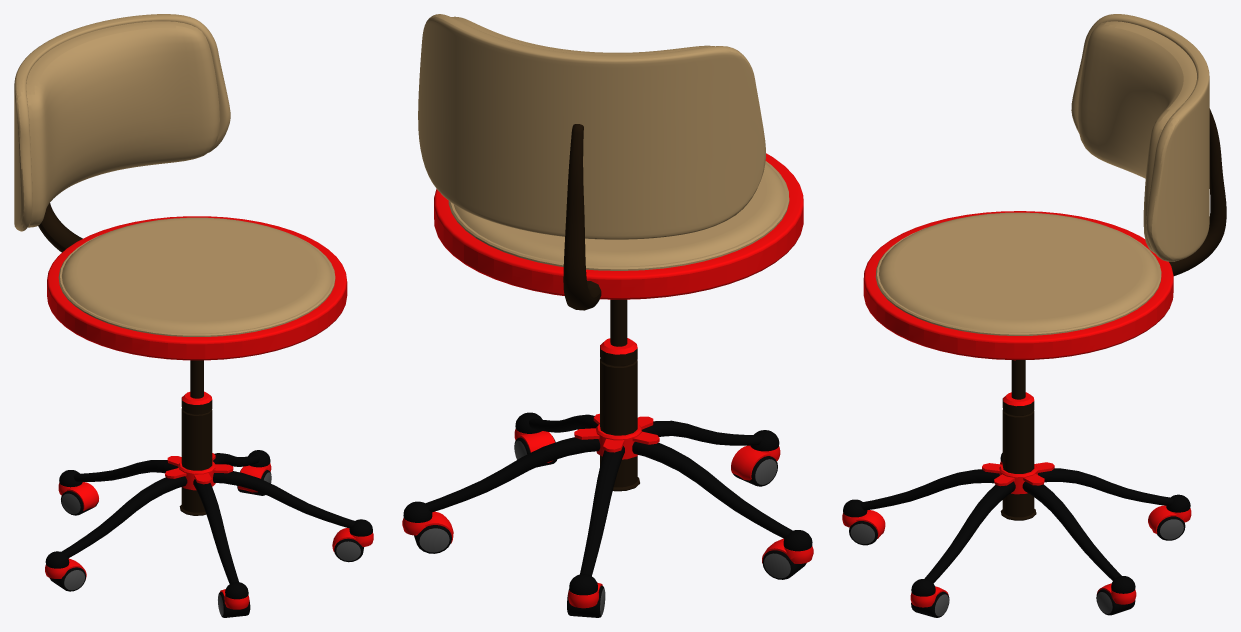
File: Cadeira2.FBX
3 renders of one model, left to right at view 1: azimuth 30°, elevation 25°; view 2: azimuth 150°, elevation 25°; view 3: azimuth 270°, elevation 25°, orthographic. The views are drawn at different scales.
Visible parts, largest first — view 1: Line01, Box02, Line03, Loft03, Loft05, Loft04, Loft02, Rectangle0, Loft01, ChamferCy3, ChamferCy1; view 2: Box02, Line01, Line03, Loft01, Loft03, Loft06, Loft02, Rectangle0, Loft04, Loft05, ChamferCy0, ChamferCy1 (+2 smaller); view 3: Line01, Box02, Line03, Loft01, Loft06, Loft05, Loft04, Loft02, Rectangle0, ChamferCyl, ChamferCy2, ChamferCy0.
Part boxes in pixels (box(x1,y1,x2,y2)): Line01: box(47, 216, 347, 360); Box02: box(14, 14, 230, 231); Line03: box(179, 360, 212, 515); Loft03: box(61, 476, 187, 558); Loft05: box(213, 471, 354, 528); Loft04: box(193, 479, 238, 583); Loft02: box(73, 460, 178, 481); Rectangle0: box(165, 453, 233, 490); Loft01: box(38, 203, 82, 252); ChamferCy3: box(334, 538, 363, 562); ChamferCy1: box(49, 567, 86, 591); Box02: box(418, 14, 765, 239); Line01: box(434, 153, 803, 299); Line03: box(600, 299, 639, 491); Loft01: box(563, 124, 601, 310); Loft03: box(632, 442, 792, 538); Loft06: box(425, 437, 600, 512); Loft02: box(580, 446, 624, 576); Rectangle0: box(574, 413, 659, 459); Loft04: box(641, 420, 762, 445); Loft05: box(529, 414, 598, 432); ChamferCy0: box(414, 525, 451, 553); ChamferCy1: box(762, 550, 806, 579); Line01: box(863, 211, 1173, 360); Box02: box(1071, 14, 1209, 261); Line03: box(1000, 360, 1036, 520); Loft01: box(1169, 108, 1226, 275); Loft06: box(1022, 481, 1121, 580); Loft05: box(924, 481, 1015, 583); Loft04: box(860, 469, 999, 510); Loft02: box(1038, 468, 1173, 505); Rectangle0: box(982, 462, 1054, 494); ChamferCyl: box(849, 521, 877, 545); ChamferCy2: box(1157, 516, 1185, 540); ChamferCy0: box(1096, 589, 1135, 615).
Bounding box in the file's own units: 21.66 × 34.03 × 24.65.
